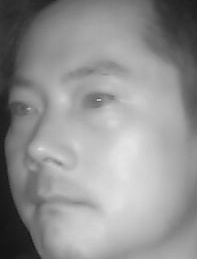eye: (78, 89, 120, 114), (4, 96, 41, 120)
mouth: (24, 183, 97, 224)
